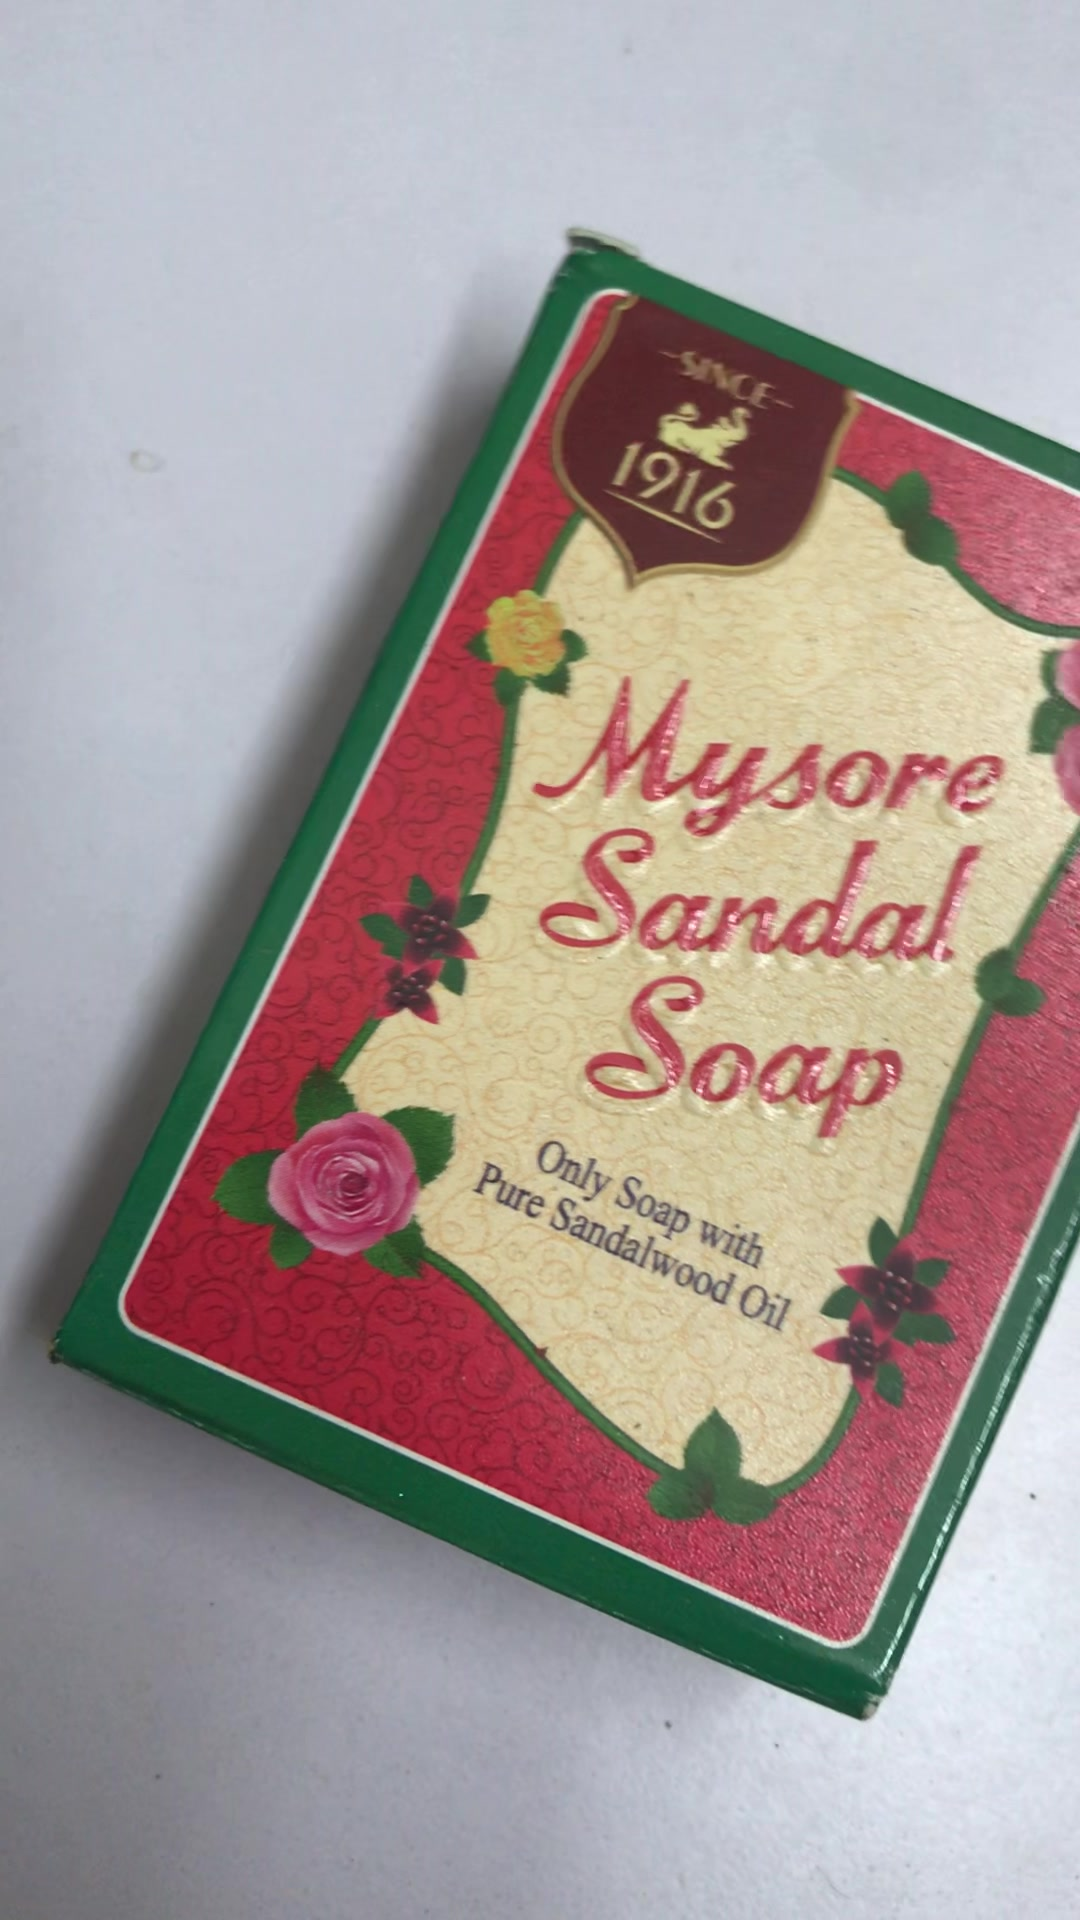mysore sandal soap: (55, 240, 1069, 1720)
